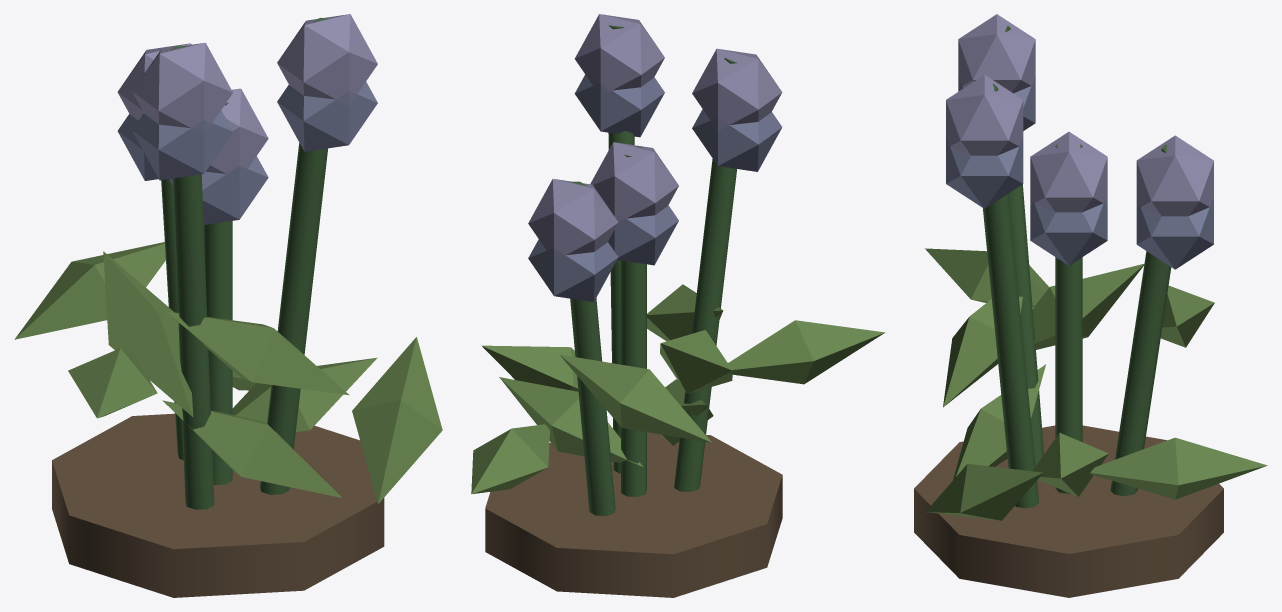
The model's file is plant-lavender-2.glb.
3 renders of one model, left to right at view 1: azimuth 30°, elevation 25°; view 2: azimuth 150°, elevation 25°; view 3: azimuth 270°, elevation 25°, orthographic. The views are drawn at different scales.
Visible parts, largest first — view 1: plant-lavender-2-visual; view 2: plant-lavender-2-visual; view 3: plant-lavender-2-visual.
Boxes of the visible parts, x1,y1,x2,y2 form: plant-lavender-2-visual: (14,14,442,597); plant-lavender-2-visual: (471,14,885,597); plant-lavender-2-visual: (914,14,1267,597).
Size of the model in its own units: 0.4142 by 0.541 by 0.3653.
